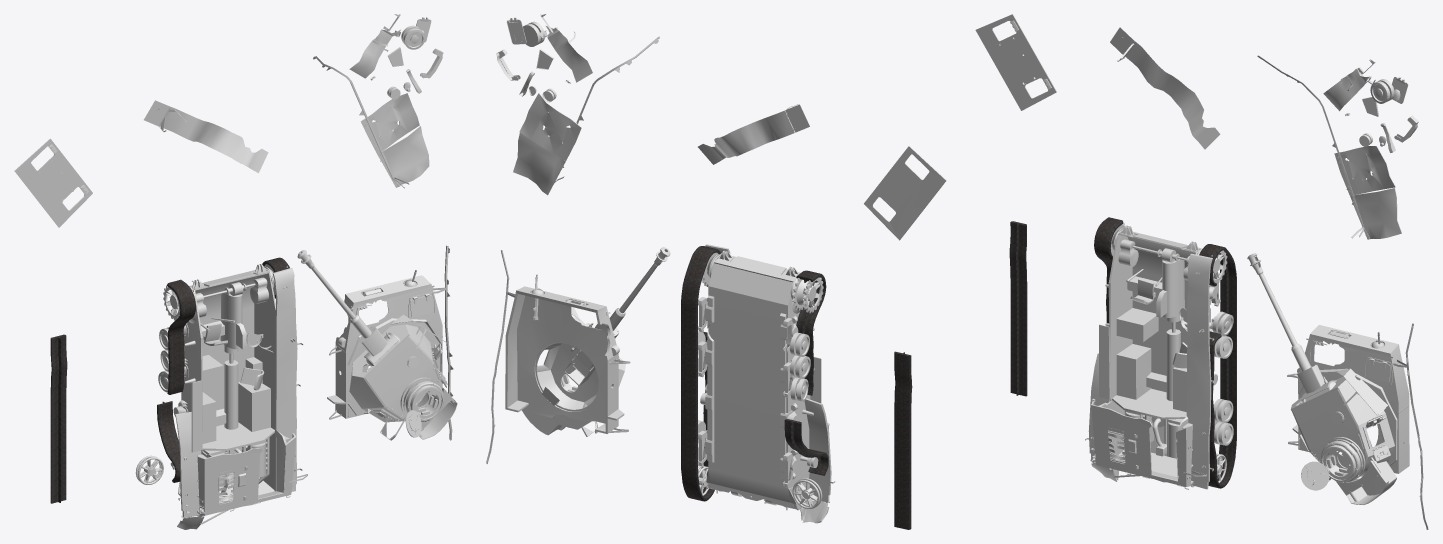
The model's file is hd_mle_UNI_002_TankCrash.fbx.
The picture shows the model from 3 angles, left to right: view 1: azimuth 30°, elevation 25°; view 2: azimuth 150°, elevation 25°; view 3: azimuth 330°, elevation 25°; orthographic projection. The views are drawn at different scales.
Parts seen in each view (by area): view 1: set_0_group_1, set_0_group_0.002, set_0_group_0.005, set_0_group_0, set_0_group_0.003, set_0_group_0.004, set_0_group_0.001; view 2: set_0_group_1, set_0_group_0.002, set_0_group_0.005, set_0_group_0, set_0_group_0.003, set_0_group_0.001, set_0_group_0.004; view 3: set_0_group_1, set_0_group_0.002, set_0_group_0.005, set_0_group_0, set_0_group_0.003, set_0_group_0.001, set_0_group_0.004.
Part boxes in pixels (x1,y1,x2,y2): set_0_group_1: (135, 264, 307, 529); set_0_group_0.002: (297, 245, 457, 440); set_0_group_0.005: (313, 14, 443, 188); set_0_group_0: (157, 257, 289, 482); set_0_group_0.003: (14, 138, 92, 227); set_0_group_0.004: (144, 100, 268, 173); set_0_group_0.001: (50, 334, 67, 503); set_0_group_1: (698, 244, 835, 523); set_0_group_0.002: (486, 247, 670, 463); set_0_group_0.005: (496, 14, 659, 195); set_0_group_0: (681, 246, 828, 501); set_0_group_0.003: (864, 146, 946, 240); set_0_group_0.001: (894, 351, 912, 529); set_0_group_0.004: (698, 104, 809, 164); set_0_group_1: (1085, 223, 1233, 489); set_0_group_0.002: (1247, 253, 1428, 529); set_0_group_0.005: (1257, 55, 1418, 239); set_0_group_0: (1094, 217, 1236, 488); set_0_group_0.003: (975, 14, 1056, 110); set_0_group_0.001: (1009, 221, 1027, 396); set_0_group_0.004: (1110, 27, 1220, 149).
Bounding box in the file's own units: 1093 × 1062 × 178.
